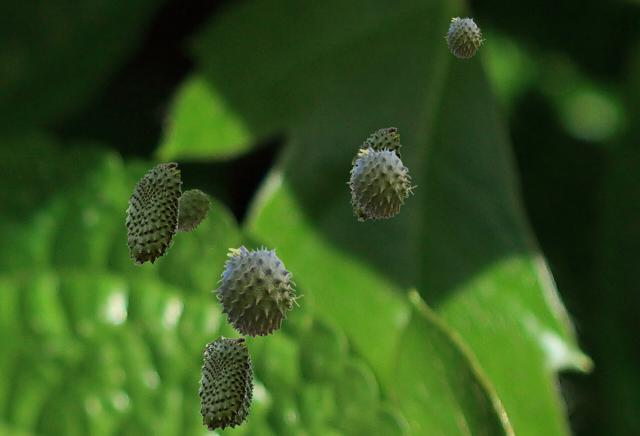guyabano: (211, 244, 303, 337), (125, 162, 181, 264), (346, 146, 416, 218), (201, 335, 254, 428), (349, 127, 400, 220), (198, 337, 249, 430), (444, 16, 484, 57), (176, 189, 210, 233)
